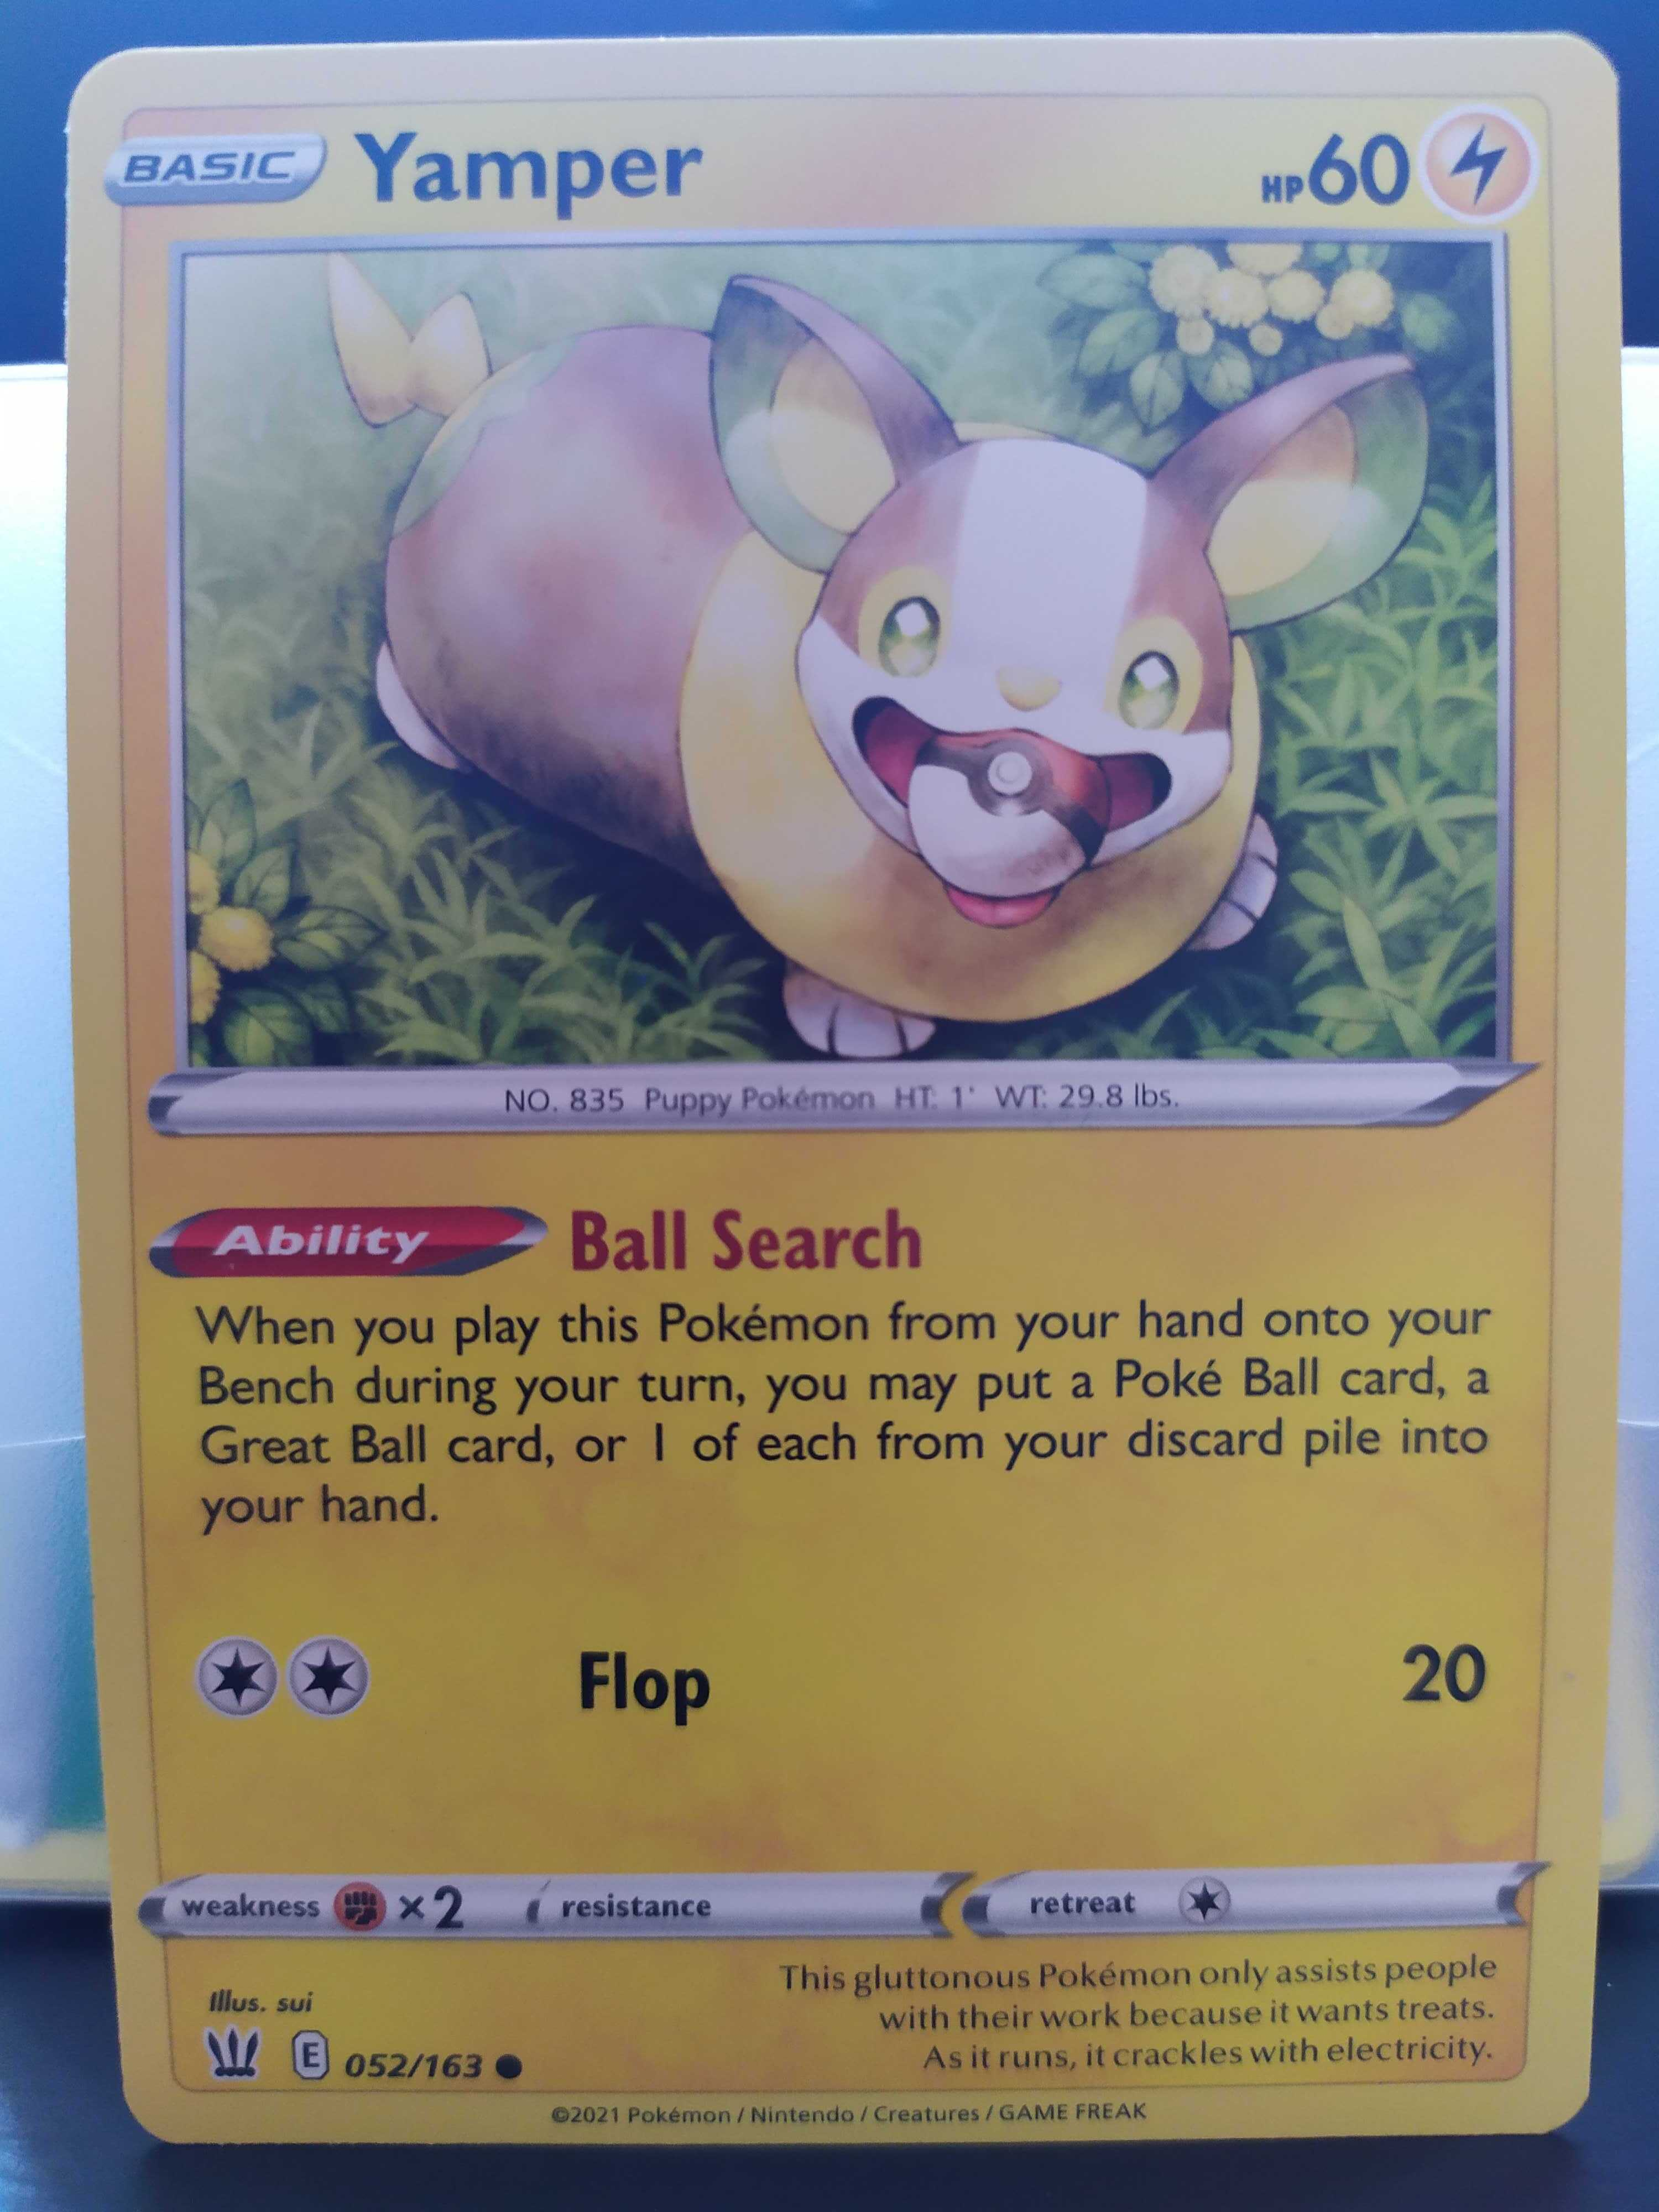collector_number: (345, 2052, 481, 2080)
full_card: (71, 35, 1626, 2139)
name: (352, 134, 704, 221)
set_icon: (204, 2024, 261, 2080)
